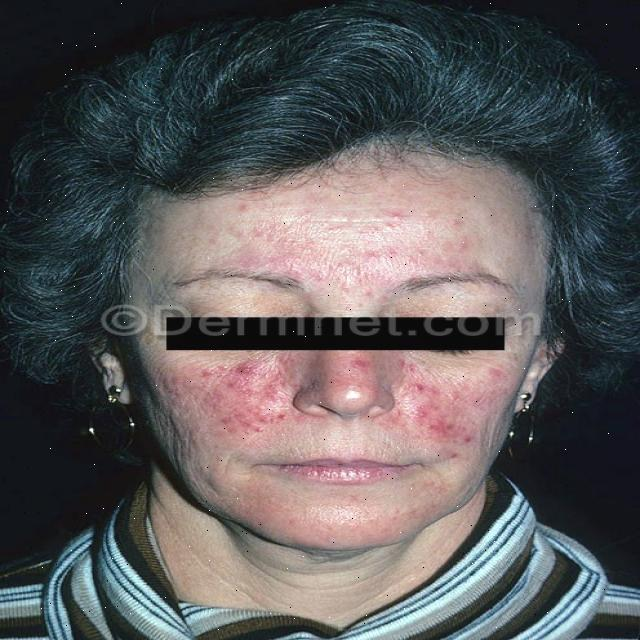images: (1, 1, 638, 638)
